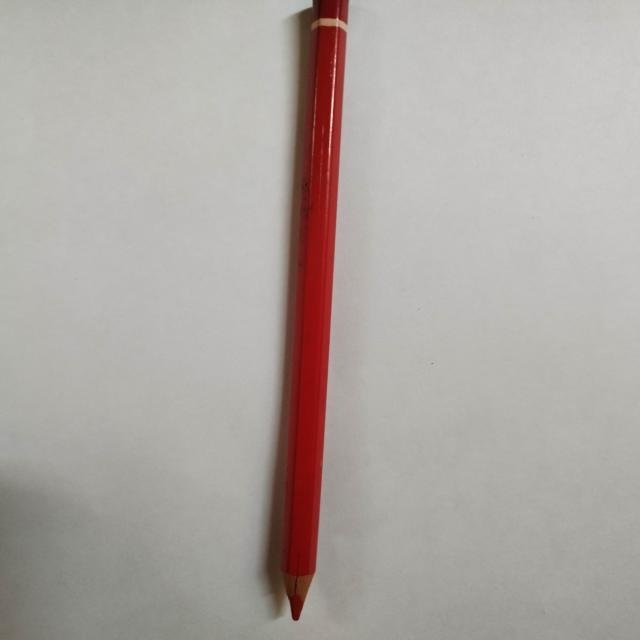pencil: (280, 1, 350, 620)
